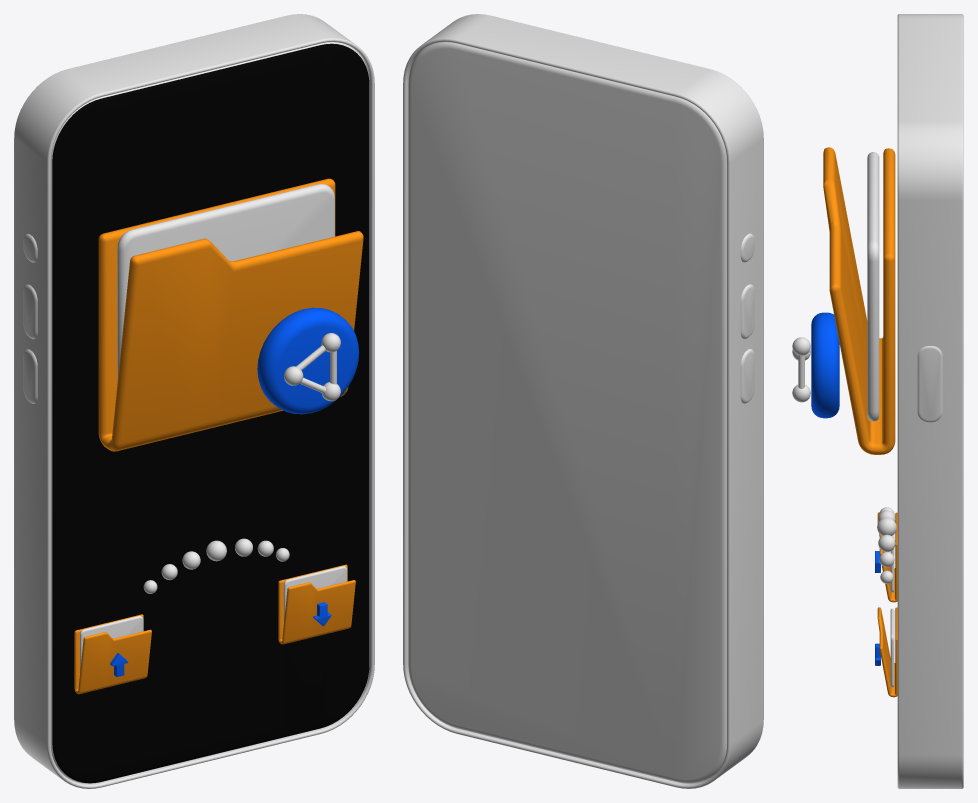
Rendered from Share File.fbx.
The picture shows the model from 3 angles, left to right: view 1: azimuth 30°, elevation 25°; view 2: azimuth 150°, elevation 25°; view 3: azimuth 270°, elevation 25°; orthographic projection. The views are drawn at different scales.
Visible parts, largest first — view 1: Cube, Cube.001, Cube.003, Plane, Cylinder.001, Cube.006, Cube.005, Cube.004, Sphere.001, Sphere, Plane.002, Plane.001; view 2: Cube, Cube.001, Cube.004; view 3: Cube.001, Cube.003, Plane, Cylinder.001, Cube.004, Sphere.001, Cube.006, Sphere, Cube.005, Plane.002.
Part boxes in pixels (x1,y1,x2,y2): Cube: [51, 42, 369, 783]; Cube.001: [14, 14, 374, 788]; Cube.003: [98, 178, 363, 451]; Plane: [117, 184, 334, 383]; Cylinder.001: [257, 307, 359, 414]; Cube.006: [278, 564, 355, 644]; Cube.005: [74, 614, 151, 694]; Cube.004: [23, 234, 37, 403]; Sphere.001: [143, 538, 289, 593]; Sphere: [284, 333, 340, 401]; Plane.002: [283, 566, 347, 624]; Plane.001: [80, 616, 143, 671]; Cube: [408, 42, 726, 783]; Cube.001: [403, 14, 763, 788]; Cube.004: [740, 233, 754, 403]; Cube.001: [897, 14, 963, 788]; Cube.003: [823, 147, 895, 454]; Plane: [867, 152, 879, 421]; Cylinder.001: [811, 312, 839, 418]; Cube.004: [917, 346, 942, 422]; Sphere.001: [877, 507, 896, 583]; Cube.006: [877, 607, 897, 697]; Sphere: [792, 337, 810, 402]; Cube.005: [877, 512, 897, 602]; Plane.002: [890, 608, 894, 687].
Size of the model in its own units: 90.34 by 181 by 42.49.
